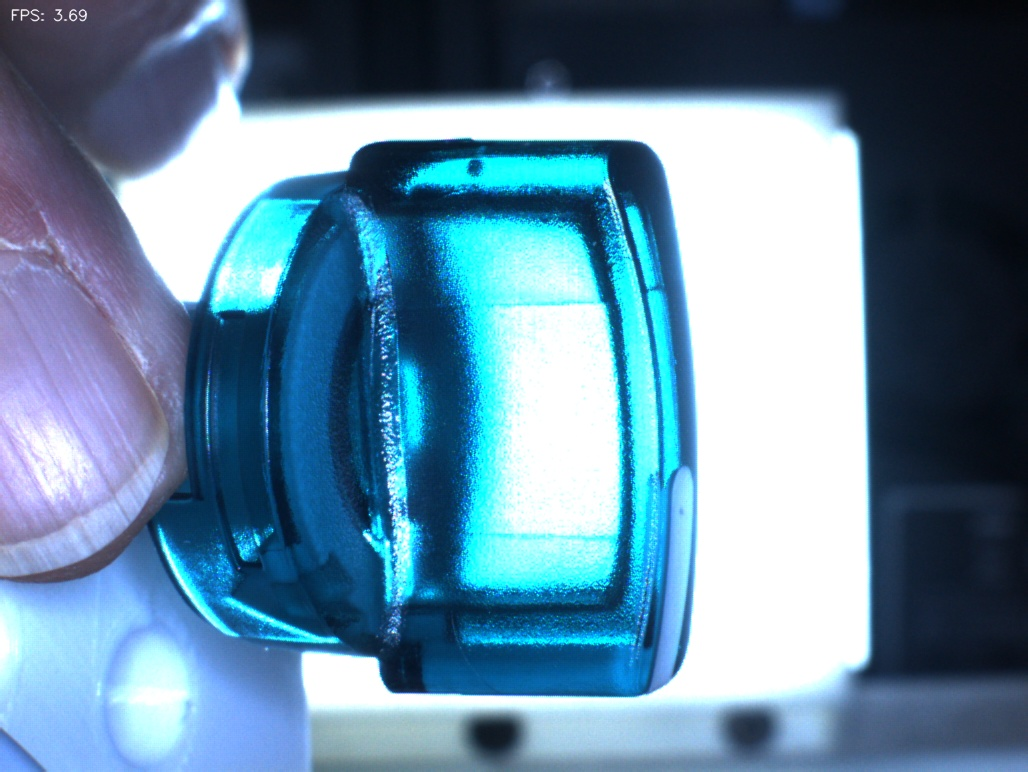Bulle: (430, 123, 514, 210)
